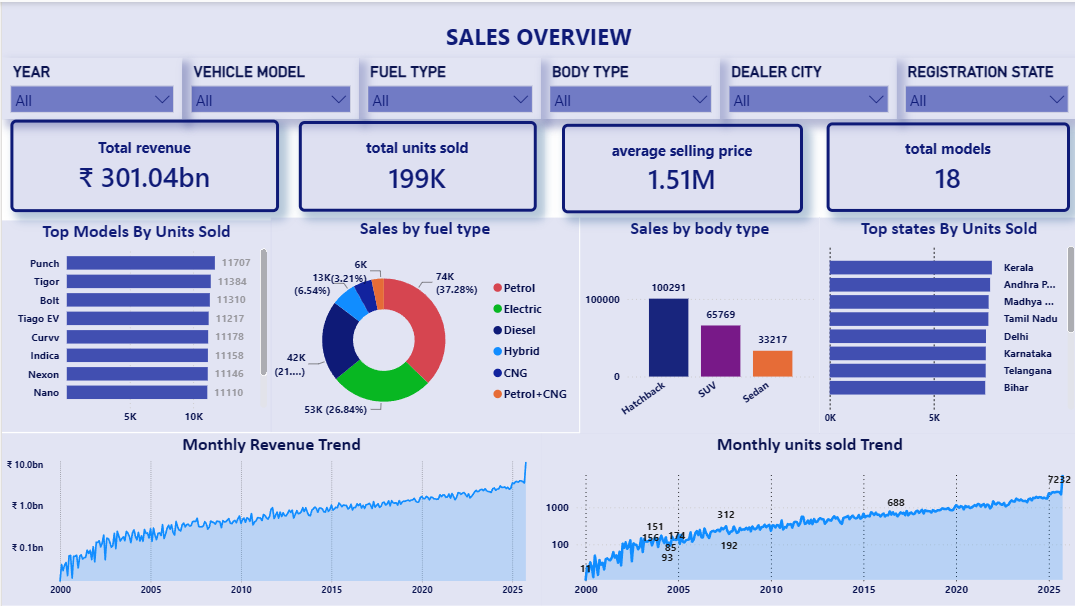

The page's visual inventory and layout, read from the dashboard file:
{"tool":"powerbi","page":{"name":"sale overview","canvas":[1280,720],"ordinal":0},"visuals":[{"type":"cardVisual","fields":{"Data":["date_table.Total revenue"]},"box":[10,139.8,319.5,109.8],"z":0},{"type":"lineChart","title":"Monthly Revenue Trend","fields":{"Category":["date_table.year_month"],"Y":["date_table.Total revenue"]},"box":[0,512.5,640.6,204.7],"z":1000},{"type":"lineChart","title":"Monthly units sold  Trend","fields":{"Category":["date_table.year_month"],"Y":["date_table.total units sold"]},"box":[640.6,512.5,638.9,204.7],"z":2000},{"type":"barChart","title":"Top Models By Units Sold","fields":{"Y":["date_table.total units sold"],"Category":["sales_details.vehicle_model"]},"box":[0,260,320,251.7],"z":3000},{"type":"donutChart","title":"Sales by fuel type","fields":{"Y":["Sum(sales_details.sale_units)"],"Category":["vehicle_info.fuel_type"]},"box":[320,256.7,366.7,255],"z":4000},{"type":"columnChart","title":"Sales by body type","fields":{"Category":["vehicle_info.body_type"],"Y":["date_table.total units sold"]},"box":[687.2,256.2,284.5,256.2],"z":5000},{"type":"slicer","title":"year","fields":{"Values":["sales_details.vehicle_model"]},"box":[214.7,66.9,209.7,73.2],"z":6000},{"type":"slicer","title":"year","fields":{"Values":["vehicle_info.fuel_type"]},"box":[424.4,66.9,216.3,73.2],"z":7000},{"type":"slicer","title":"year","fields":{"Values":["vehicle_info.body_type"]},"box":[640.7,66.9,213,73.2],"z":8000},{"type":"slicer","title":"year","fields":{"Values":["sales_details.dealer_city"]},"box":[853.7,66.9,209.7,73.2],"z":9000},{"type":"slicer","title":"year","fields":{"Values":["sales_details.reg_state"]},"box":[1063.3,66.9,214.6,73.2],"z":10000},{"type":"clusteredBarChart","title":"Top states By Units Sold","fields":{"Category":["sales_details.reg_state"],"Y":["date_table.total units sold"]},"box":[971.7,256.2,307.8,256.2],"z":11000},{"type":"cardVisual","fields":{"Data":["date_table.average selling price"]},"box":[665.6,144.8,286.2,106.5],"z":12000},{"type":"cardVisual","fields":{"Data":["date_table.total units sold"]},"box":[352.7,141.4,282.9,108.2],"z":13000},{"type":"cardVisual","fields":{"Data":["date_table.total models"]},"box":[980,143.1,289.5,106.5],"z":14000},{"type":"textbox","box":[0,0,1276.7,66.7],"z":15000},{"type":"slicer","title":"year","fields":{"Values":["date_table.year"]},"box":[0.1,66.9,214.6,73.2],"z":16000}]}

Visuals, with their boxes in screenshot pixels (x1, y1, x2, y2), scaled from the page's 1280x720 canvas onto the 1075x606 screenshot:
cardVisual - date_table.Total revenue: 8/118/277/210
"Monthly Revenue Trend" lineChart: 0/431/538/604
"Monthly units sold  Trend" lineChart: 538/431/1074/604
"Top Models By Units Sold" barChart: 0/219/269/431
"Sales by fuel type" donutChart: 269/216/577/431
"Sales by body type" columnChart: 577/216/816/431
"year" slicer: 180/56/356/118
"year" slicer: 356/56/538/118
"year" slicer: 538/56/717/118
"year" slicer: 717/56/893/118
"year" slicer: 893/56/1073/118
"Top states By Units Sold" clusteredBarChart: 816/216/1074/431
cardVisual - date_table.average selling price: 559/122/799/212
cardVisual - date_table.total units sold: 296/119/534/210
cardVisual - date_table.total models: 823/120/1066/210
textbox: 0/0/1072/56
"year" slicer: 0/56/180/118
